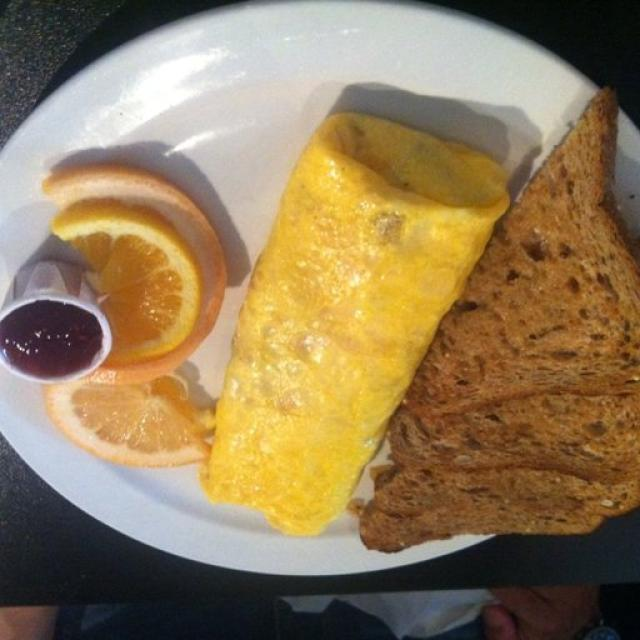telur_ayam_dadar: (198, 111, 512, 540)
